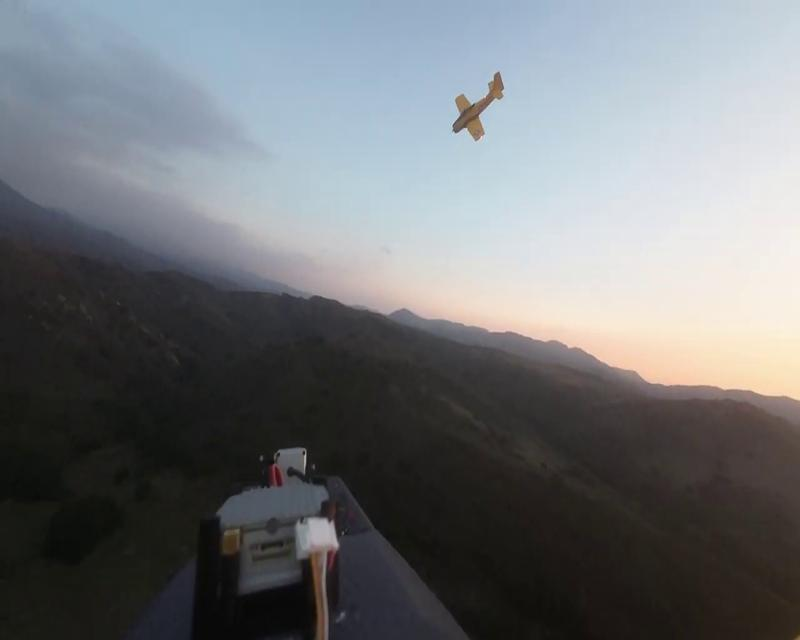UAV: (450, 69, 505, 142)
